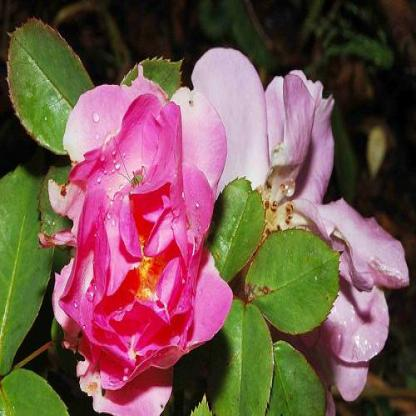aphid: (120, 159, 148, 188)
